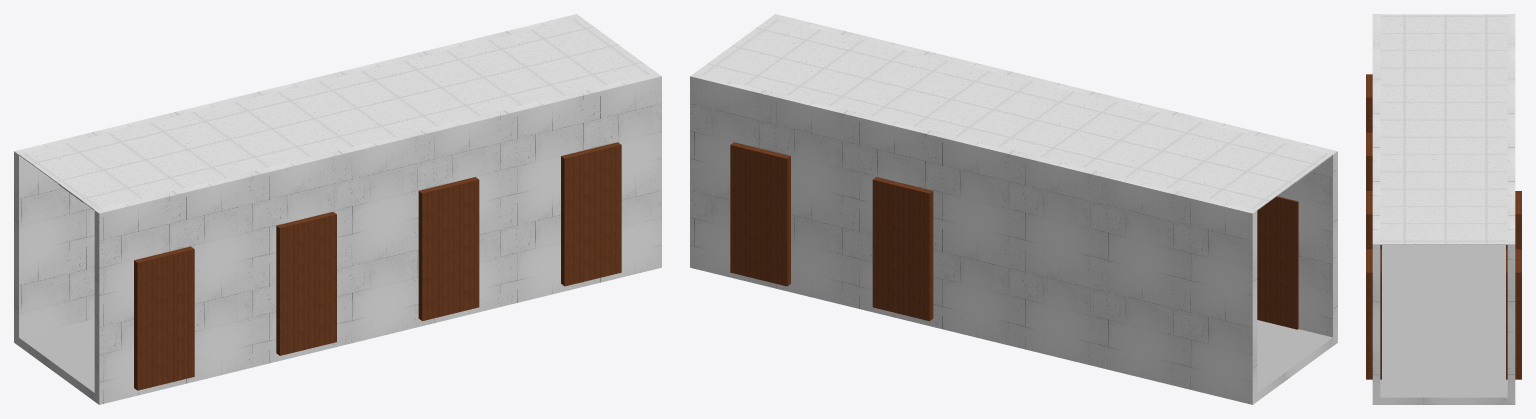
File: hallway_v1_texture.fbx
The picture shows the model from 3 angles, left to right: view 1: azimuth 30°, elevation 25°; view 2: azimuth 150°, elevation 25°; view 3: azimuth 270°, elevation 25°; orthographic projection. The views are drawn at different scales.
Visible parts, largest first — view 1: hallway.058, roof_hallway.058, door_elevator.195; view 2: hallway.058, roof_hallway.058, door_elevator.194, door_elevator.195; view 3: roof_hallway.058, hallway.058, door_elevator.195, door_elevator.194.
Boxes of the visible parts, box(x1,y1,x2,y2) form: hallway.058: box(14, 14, 661, 404); roof_hallway.058: box(19, 17, 656, 210); door_elevator.195: box(134, 142, 621, 390); hallway.058: box(690, 14, 1337, 404); roof_hallway.058: box(695, 17, 1332, 210); door_elevator.194: box(730, 142, 933, 320); door_elevator.195: box(1257, 196, 1298, 329); roof_hallway.058: box(1380, 14, 1507, 244); hallway.058: box(1372, 14, 1515, 404); door_elevator.195: box(1366, 74, 1381, 379); door_elevator.194: box(1506, 191, 1521, 379).
Bounding box in the file's own units: 343 × 111 × 97.86.
